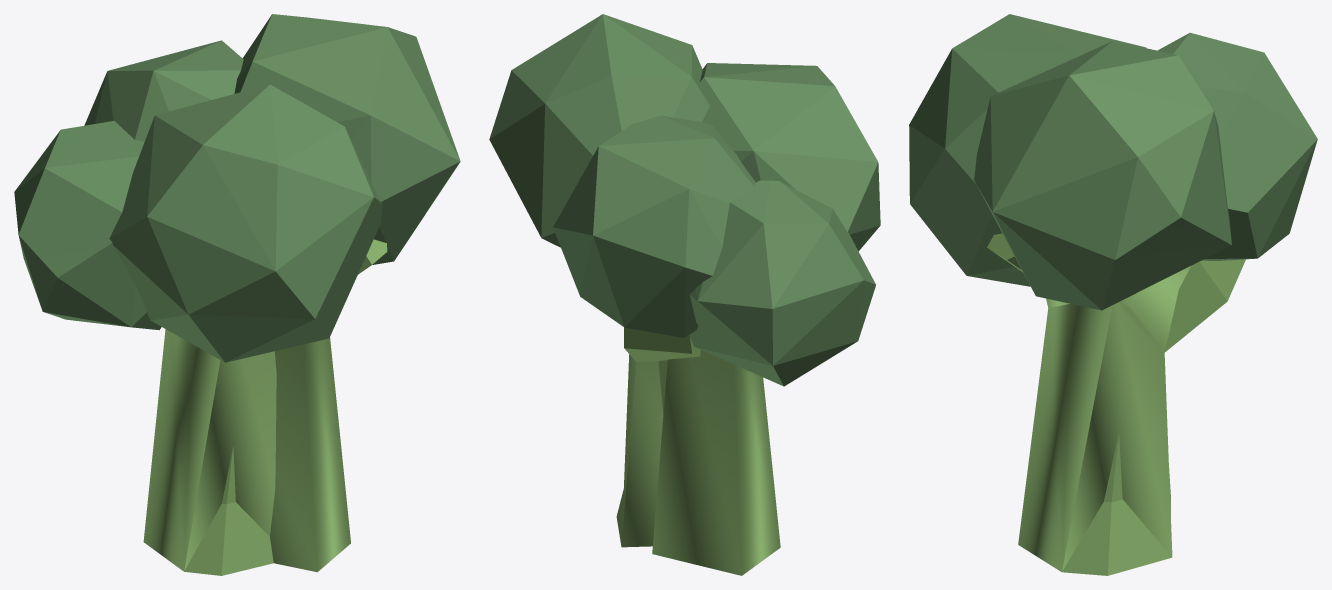
File: item_radioactive_broccoli.glb
3 renders of one model, left to right at view 1: azimuth 30°, elevation 25°; view 2: azimuth 150°, elevation 25°; view 3: azimuth 270°, elevation 25°, orthographic. The views are drawn at different scales.
Parts seen in each view (by area): view 1: Broccoli_submesh_1, Broccoli_submesh_0; view 2: Broccoli_submesh_1, Broccoli_submesh_0; view 3: Broccoli_submesh_1, Broccoli_submesh_0.
Part boxes in pixels (box(x1,y1,x2,y2)): Broccoli_submesh_1: box(14, 14, 460, 362); Broccoli_submesh_0: box(143, 239, 387, 575); Broccoli_submesh_1: box(489, 14, 880, 386); Broccoli_submesh_0: box(616, 327, 780, 575); Broccoli_submesh_1: box(909, 14, 1317, 310); Broccoli_submesh_0: box(987, 233, 1245, 575).
Bounding box in the file's own units: 0.1503 × 0.1799 × 0.1289.
